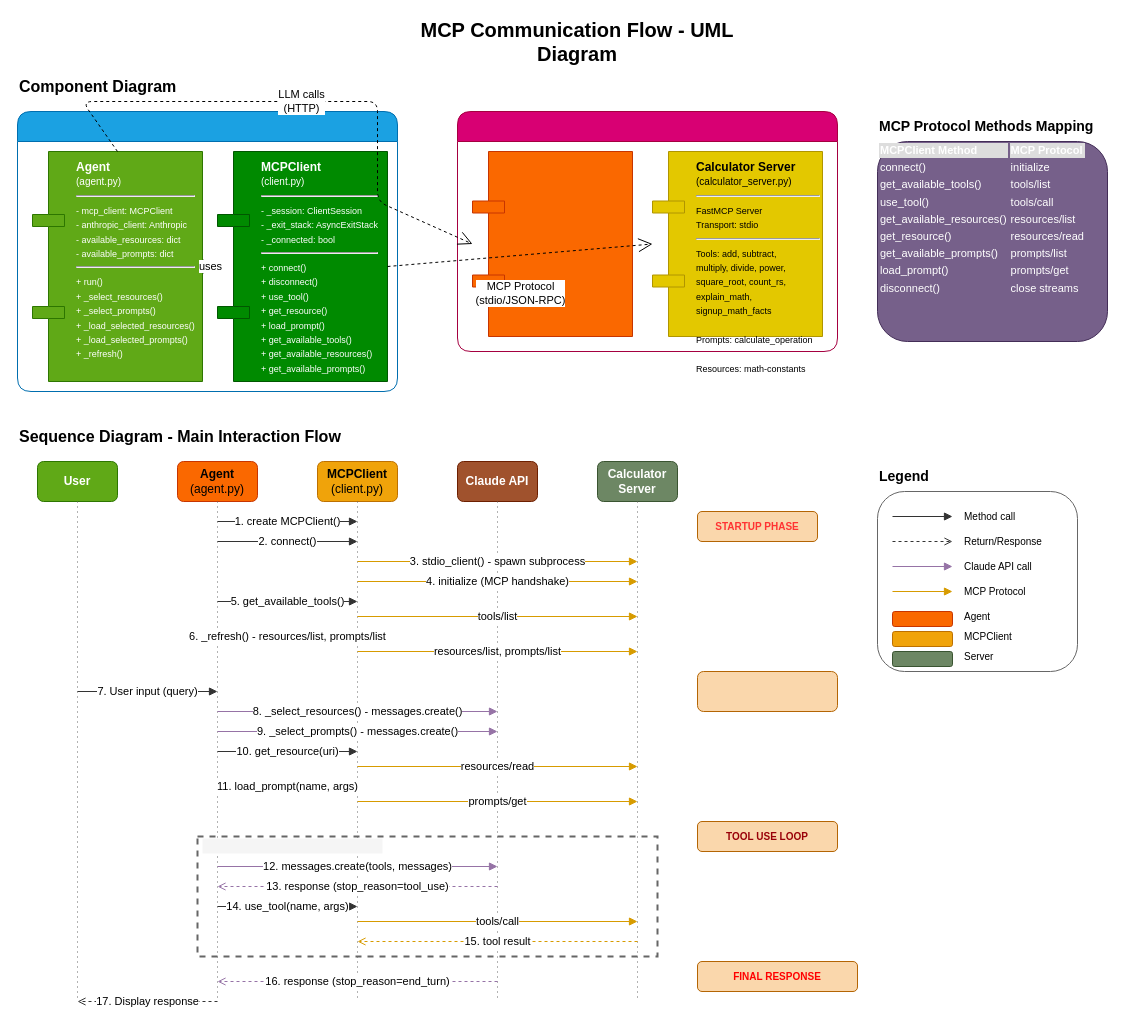
This 1145x1027 diagram has some shape labels left out. Here are the shapes that lost their labels. From the top down, the box of each, then its label:
(16, 110, 398, 392): Host Application
(472, 150, 632, 336): Claude API (Anthropic) External LLM Service + messages.create()
(456, 110, 838, 352): External Services
(696, 670, 838, 712): REQUEST HANDLING PHASE
(202, 838, 382, 853): loop [while stop_reason == 'tool_use']
